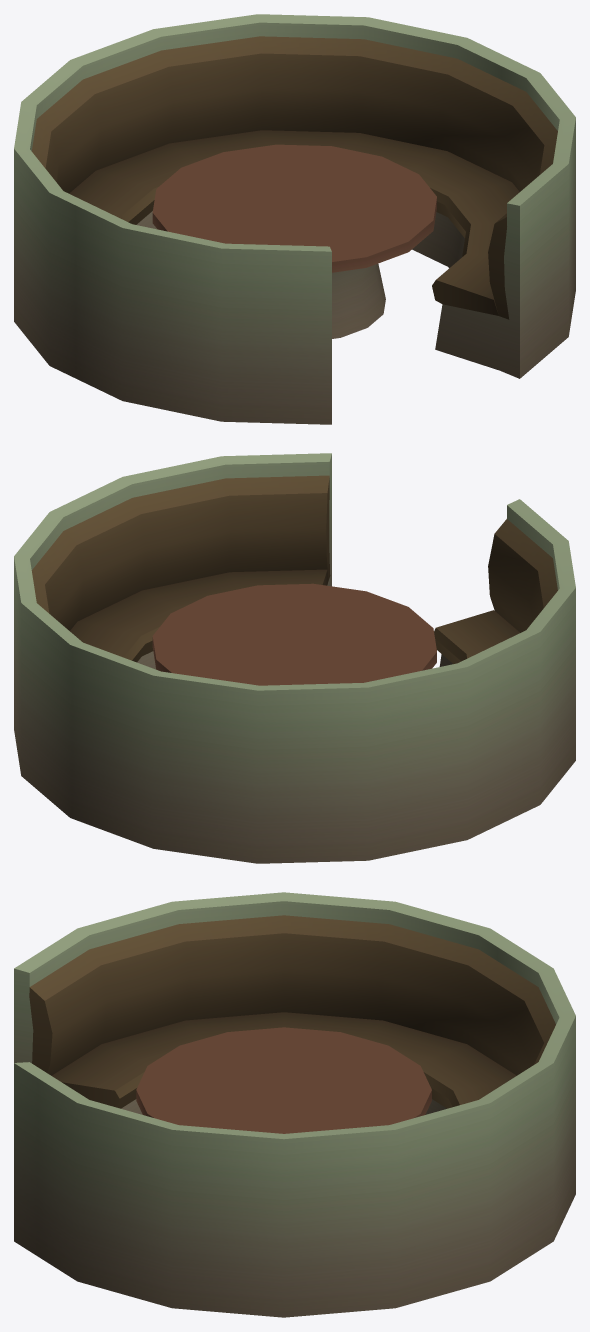
Rendered from RoundBooth.fbx.
3 views of the same model, one above another, from view 1: azimuth 30°, elevation 25°; view 2: azimuth 150°, elevation 25°; view 3: azimuth 270°, elevation 25° (orthographic). The views are drawn at different scales.
Visible parts, largest first — view 1: Cylinder.039; view 2: Cylinder.039; view 3: Cylinder.039.
Boxes of the visible parts, <box> form: Cylinder.039: <box>14,14,575,424</box>; Cylinder.039: <box>14,453,575,863</box>; Cylinder.039: <box>14,892,575,1317</box>.
Size of the model in its own units: 960 by 324 by 924.
